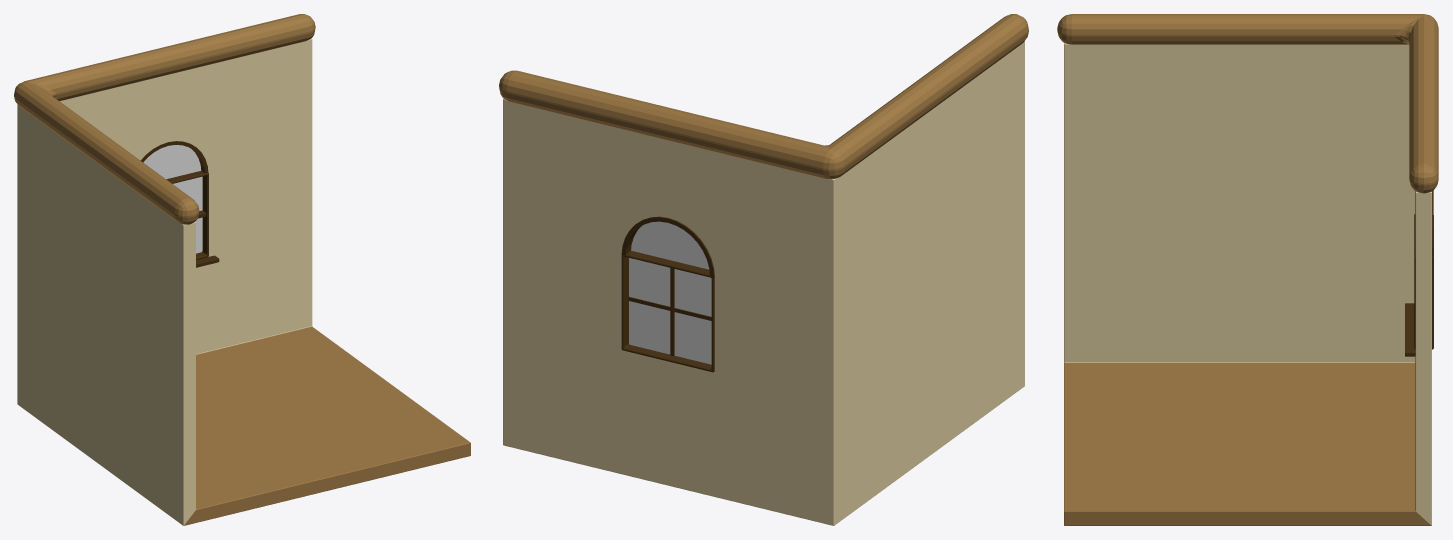
The model's file is Wall07.fbx.
The picture shows the model from 3 angles, left to right: view 1: azimuth 30°, elevation 25°; view 2: azimuth 150°, elevation 25°; view 3: azimuth 270°, elevation 25°; orthographic projection. The views are drawn at different scales.
Parts seen in each view (by area): view 1: Wall-floor, Wall-top, WindowGlow2, WindowFrame04; view 2: Wall-floor, Wall-top, WindowGlow, WindowFrame04, WindowGlow2, WindowFrame04.001, WindowCylinder.001; view 3: Wall-floor, Wall-top, WindowFrame01.
Part boxes in pixels (x1,y1,x2,y2): Wall-floor: [17, 38, 470, 525]; Wall-top: [14, 14, 315, 224]; WindowGlow2: [143, 145, 202, 199]; WindowFrame04: [166, 171, 208, 259]; Wall-floor: [503, 41, 1024, 525]; Wall-top: [499, 14, 1028, 179]; WindowGlow: [629, 258, 711, 364]; WindowFrame04: [621, 250, 714, 372]; WindowGlow2: [631, 221, 709, 269]; WindowFrame04.001: [621, 251, 714, 368]; WindowCylinder.001: [621, 216, 714, 277]; Wall-floor: [1064, 43, 1431, 525]; Wall-top: [1057, 14, 1438, 193]; WindowFrame01: [1405, 303, 1415, 356].
Size of the model in its own units: 207 by 215 by 207.
